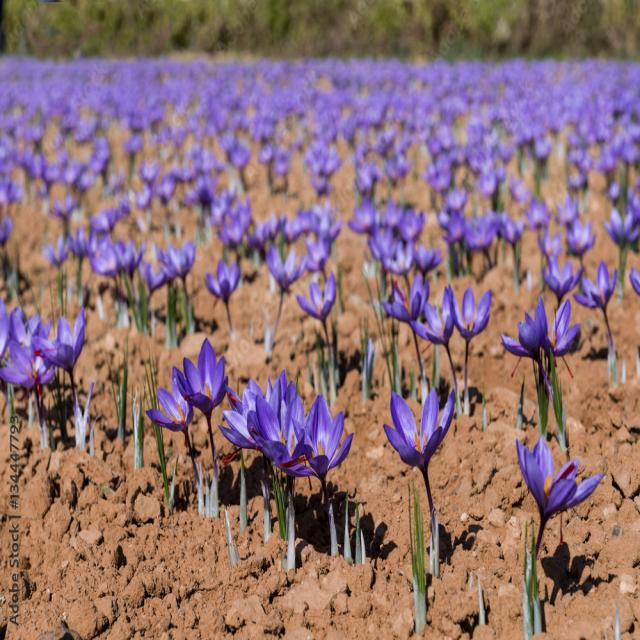saffron open: (384, 388, 455, 577), (517, 437, 604, 553), (146, 367, 204, 513), (175, 339, 228, 463), (0, 339, 55, 450), (448, 285, 491, 414), (31, 307, 85, 405), (502, 298, 551, 398), (574, 260, 618, 335), (410, 287, 454, 357), (205, 259, 241, 341), (296, 272, 336, 334), (382, 274, 429, 324), (541, 255, 582, 307), (548, 300, 580, 358), (266, 246, 306, 292), (411, 326, 428, 403)
